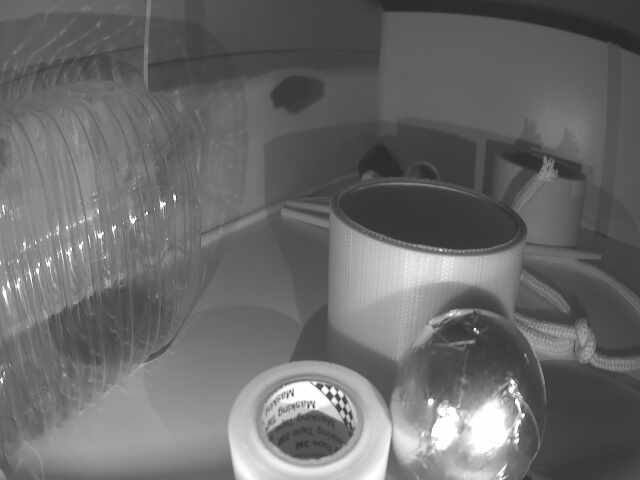Live: (383, 301, 548, 480)
